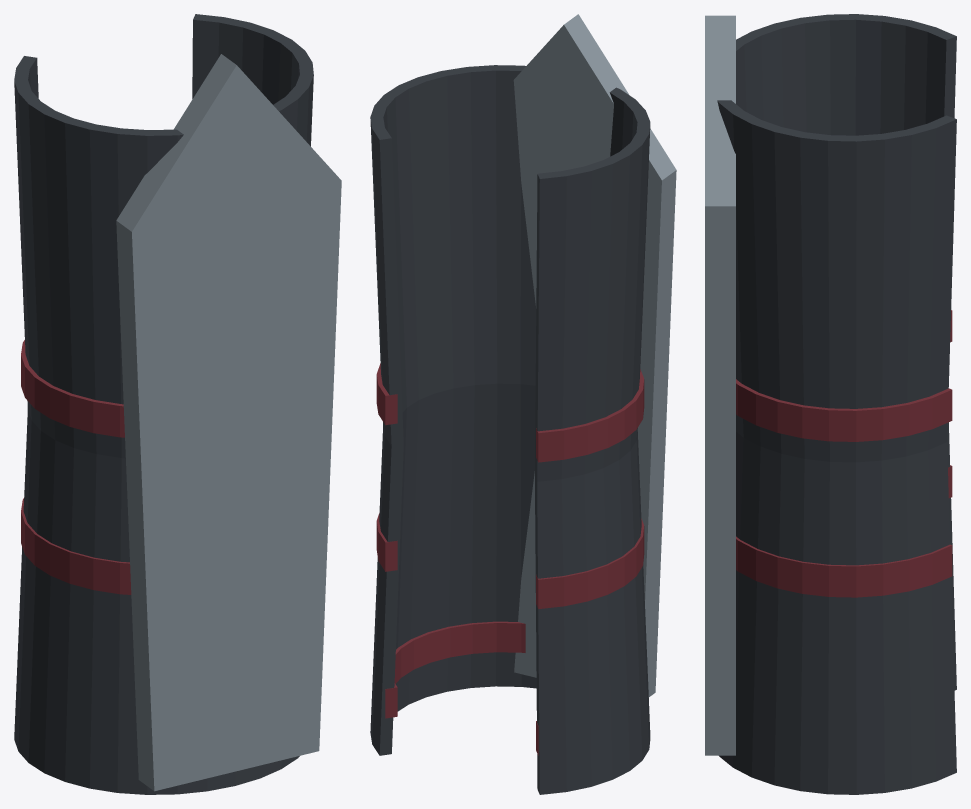
3 renders of one model, left to right at view 1: azimuth 30°, elevation 25°; view 2: azimuth 150°, elevation 25°; view 3: azimuth 270°, elevation 25°, orthographic. The views are drawn at different scales.
Visible parts, largest first — view 1: TV-123 Knee Sentinel; view 2: TV-123 Knee Sentinel; view 3: TV-123 Knee Sentinel.
Part boxes in pixels (left/top/right/bottom): TV-123 Knee Sentinel: left=14, top=14, right=341, bottom=794; TV-123 Knee Sentinel: left=370, top=14, right=676, bottom=794; TV-123 Knee Sentinel: left=705, top=14, right=956, bottom=794.
Bounding box in the file's own units: 0.1758 × 0.46 × 0.1467.
